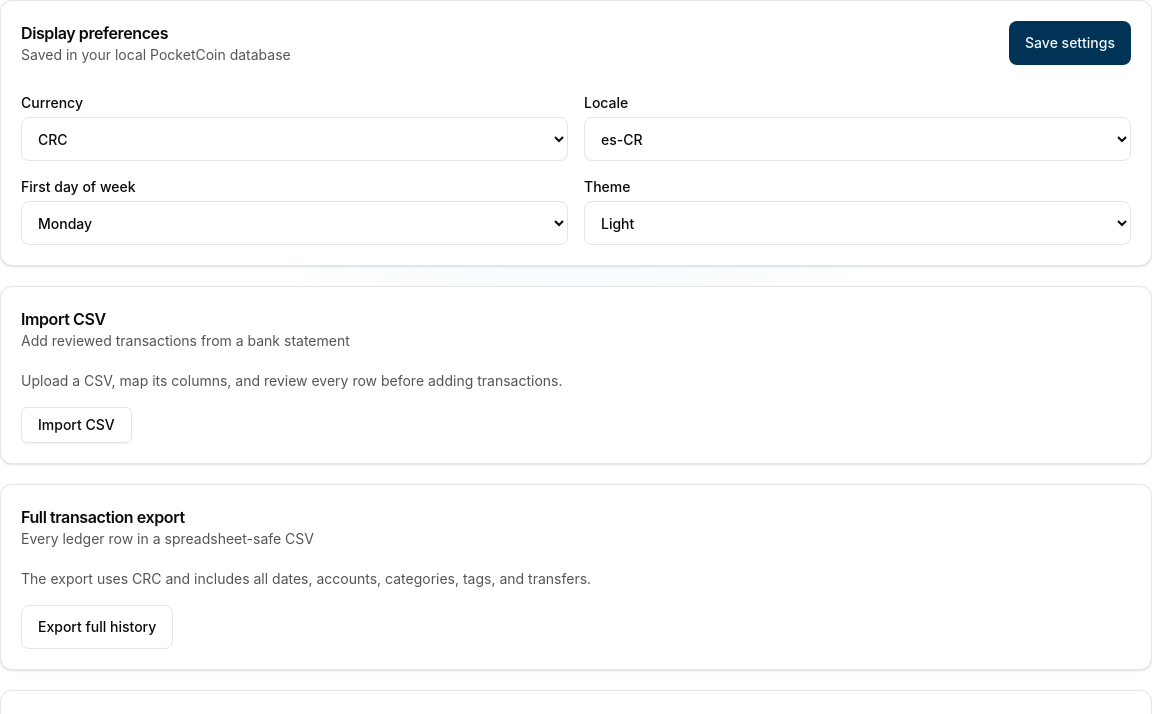
SettingsView › shows successful CSV feedback in an alert panel
The image size is (1152, 714).
Step 1. Click the button "Export full history" → coordinates (97, 627), box 21,605 -> 173,649
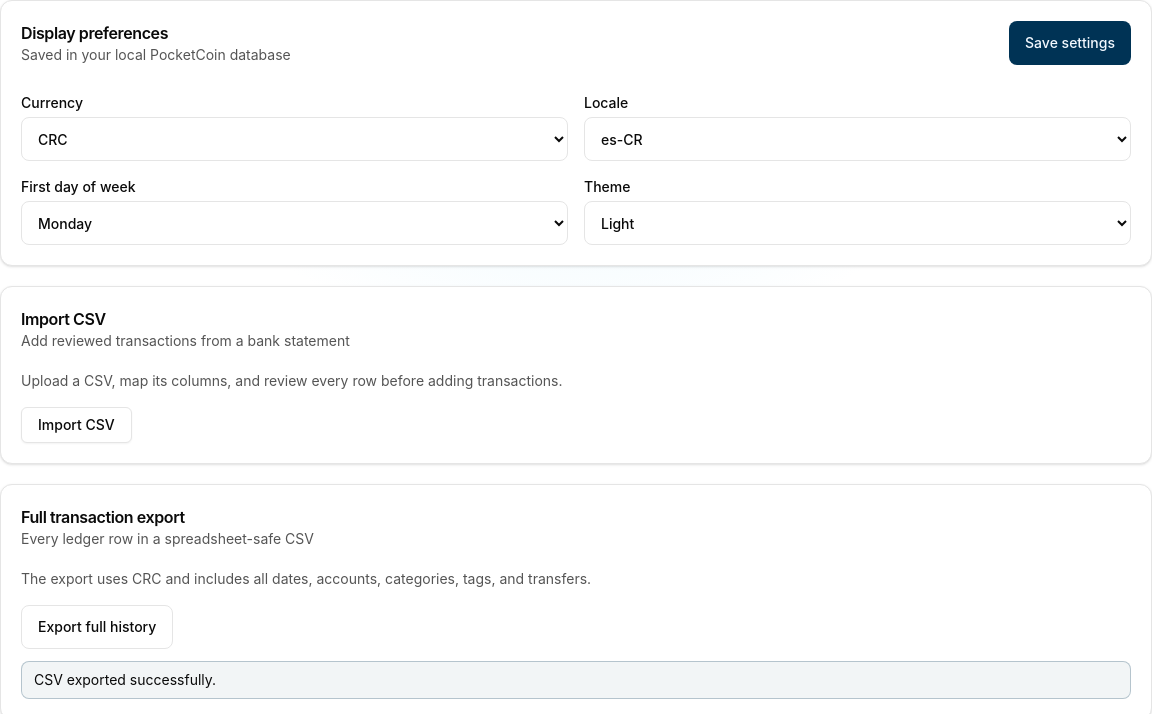
expect the message named "CSV export status" reads "CSV exported successfully.": met, box 34,671 -> 216,688
